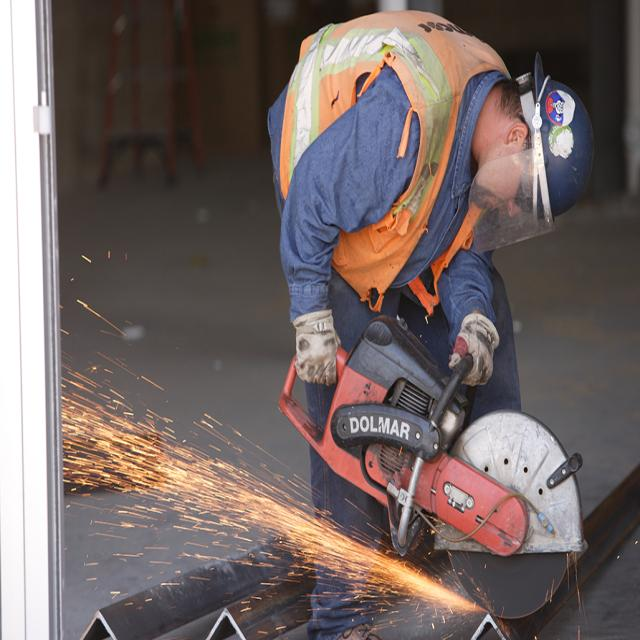goggles: (514, 152, 532, 247)
helmet: (513, 48, 599, 226)
vest: (276, 4, 512, 317)
